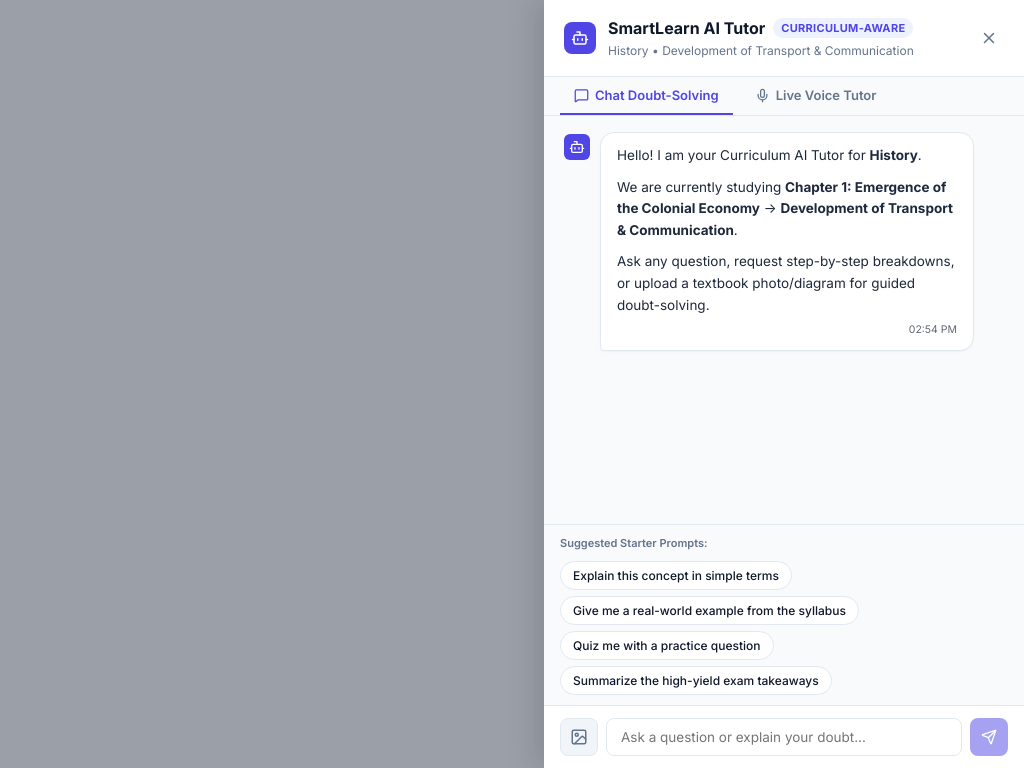
TutorDrawer Component (Text & Real-Time Voice) › submits student question in chat mode and displays tutor reply
Type "Why was the guarantee system controversial?" into the text box with placeholder "Ask a question or explain your doubt..." at [784, 737], box [606,718,962,756]
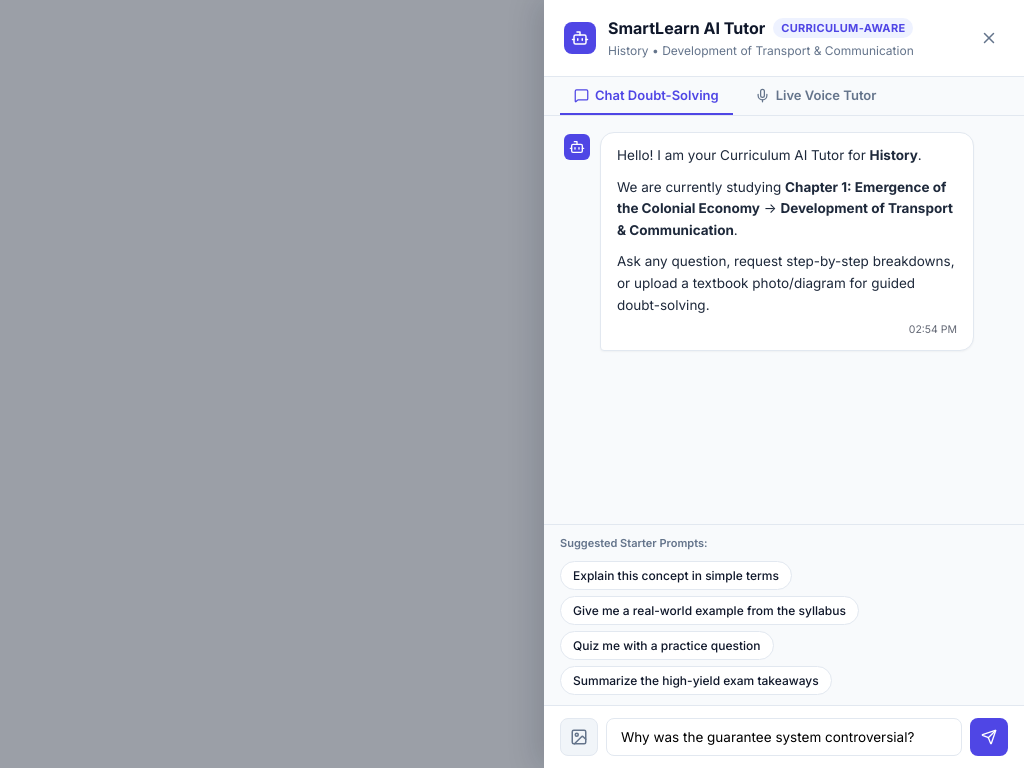
Click the button named "Send message to AI Tutor" at [989, 737], box [970,718,1008,756]
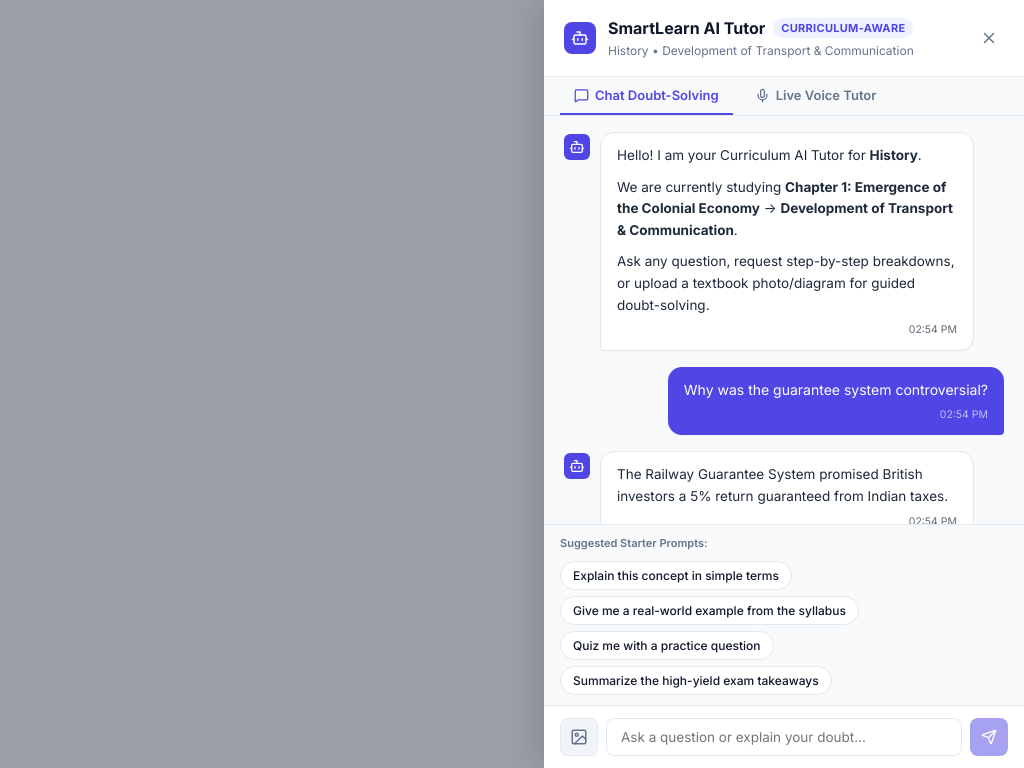
Check: the text "Why was the guarantee system controversial?" is shown, box [684,379,988,401]
Check: the text "The Railway Guarantee System promised British investors a 5% return guaranteed from Indian taxes." is shown, box [617,466,948,504]
